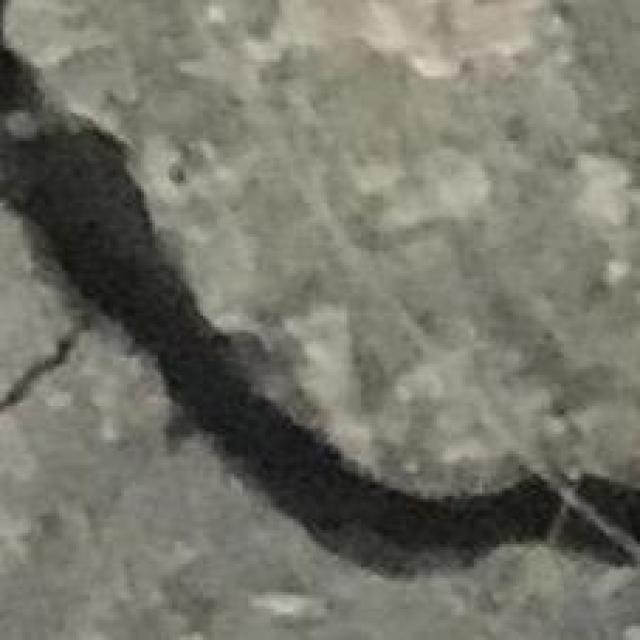Diagonal: (0, 36, 458, 599)
Transverse: (464, 460, 640, 580)
